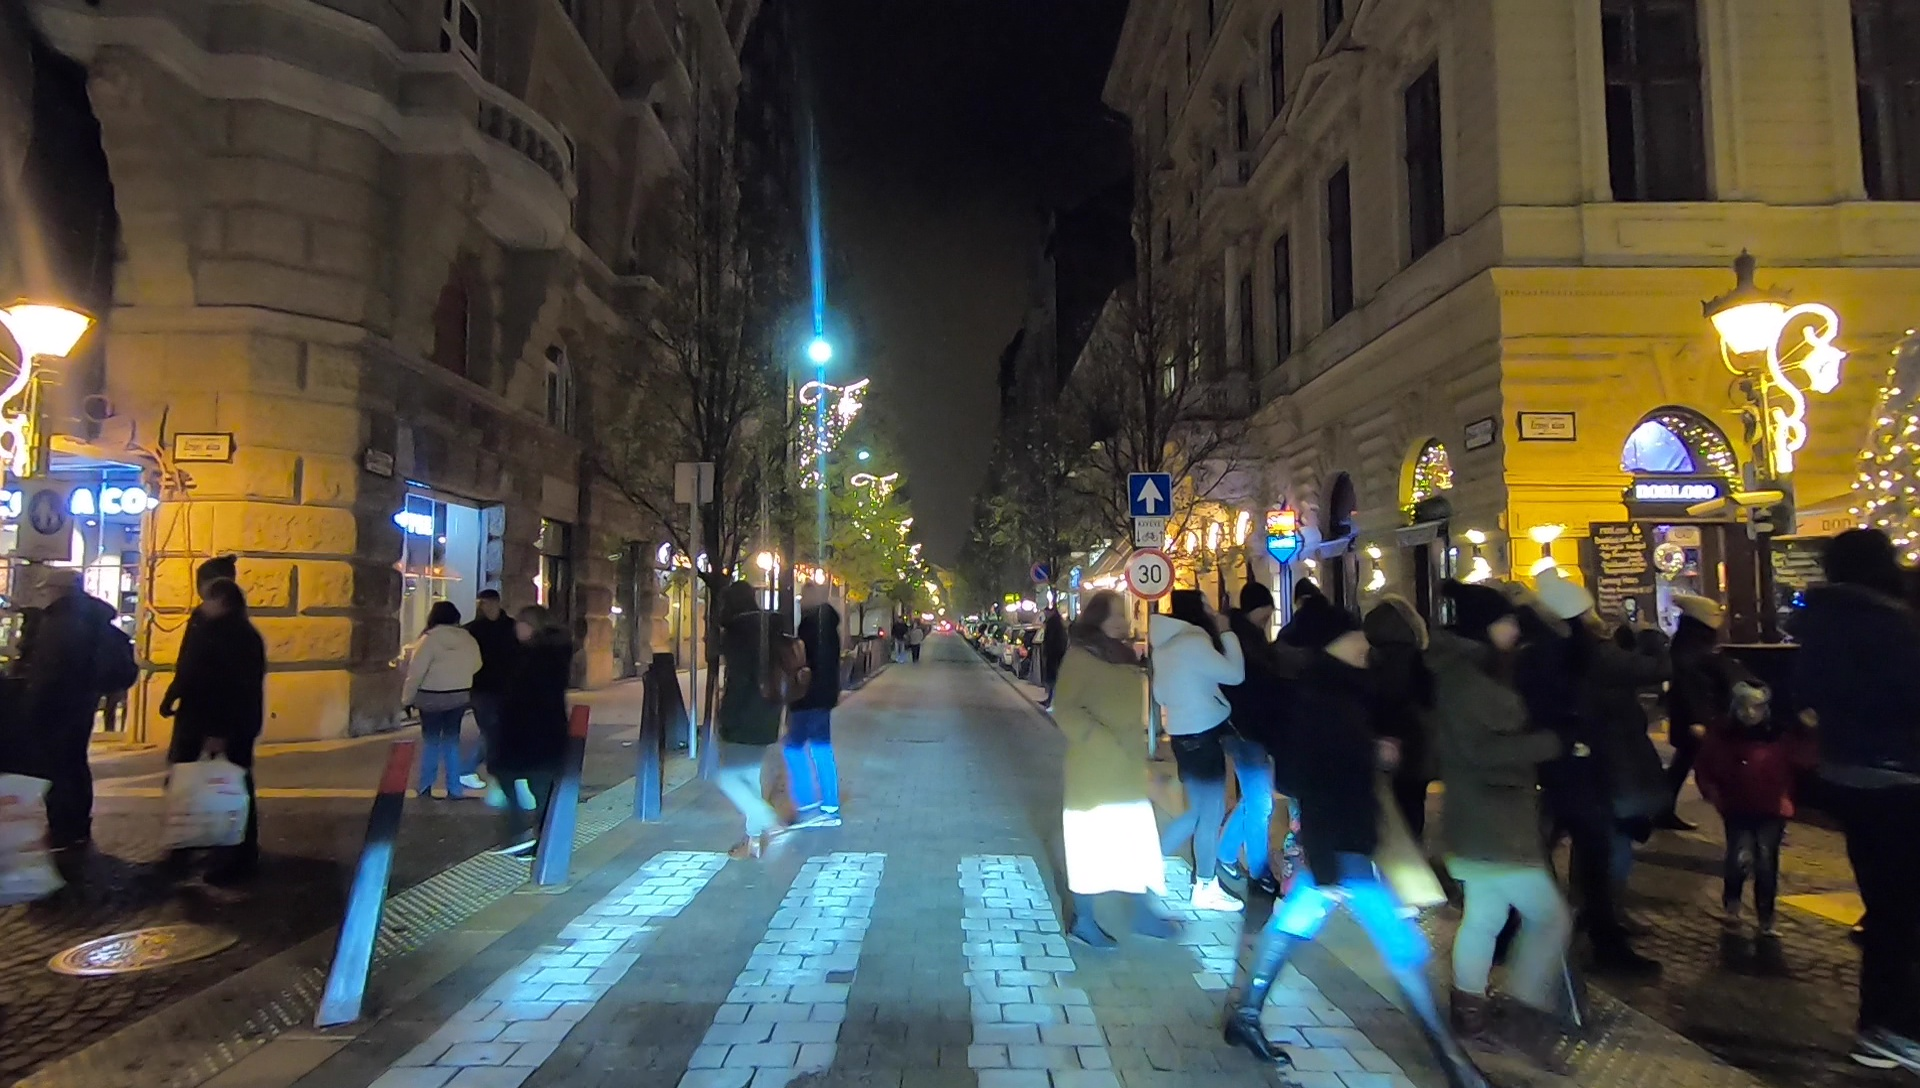person: (1241, 611, 1471, 1082), (1801, 547, 1920, 1075), (1438, 599, 1569, 1032), (1534, 569, 1651, 978), (1056, 578, 1164, 949), (10, 574, 125, 895), (1147, 574, 1236, 910), (167, 552, 264, 856), (1706, 689, 1793, 926), (1228, 582, 1291, 902), (778, 573, 849, 836), (714, 573, 771, 860), (504, 610, 575, 826), (1664, 589, 1723, 830), (402, 602, 469, 789), (469, 589, 514, 784)
